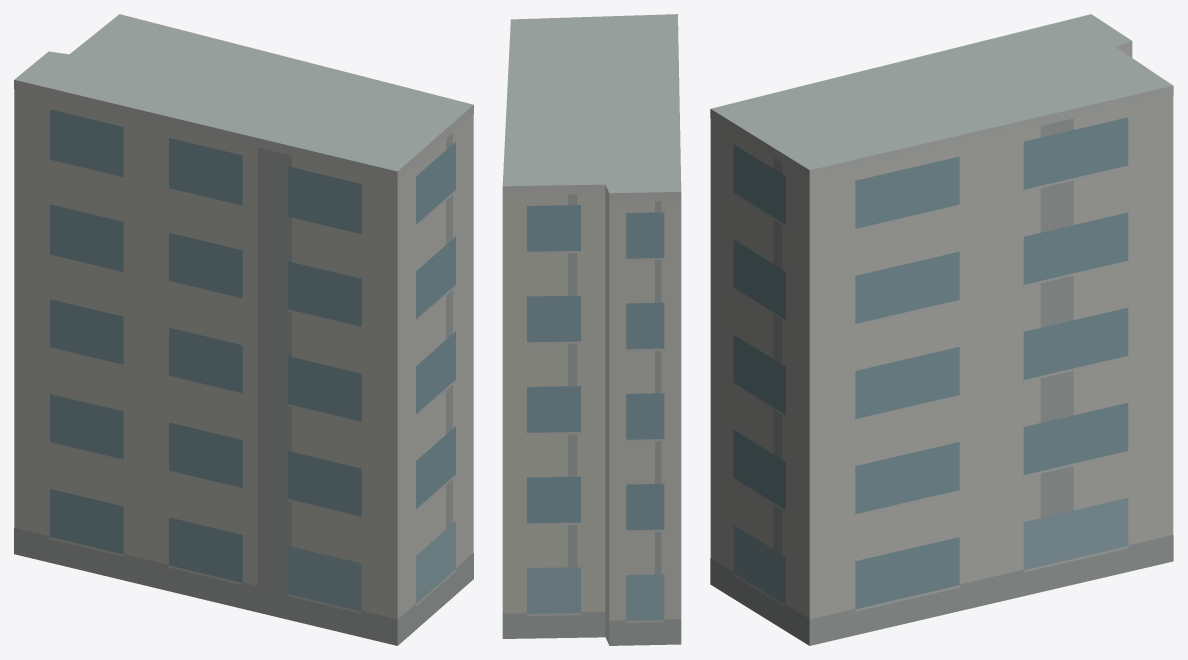
The model's file is survey-upis-32724557.glb.
The picture shows the model from 3 angles, left to right: view 1: azimuth 30°, elevation 25°; view 2: azimuth 150°, elevation 25°; view 3: azimuth 270°, elevation 25°; orthographic projection. The views are drawn at different scales.
Parts seen in each view (by area): view 1: survey-upis-32724557.tmp; view 2: survey-upis-32724557.tmp; view 3: survey-upis-32724557.tmp.
Boxes of the visible parts, x1,y1,x2,y2 form: survey-upis-32724557.tmp: (14, 14, 473, 645); survey-upis-32724557.tmp: (502, 14, 681, 645); survey-upis-32724557.tmp: (710, 14, 1173, 645).
Bounding box in the file's own units: 8.53 × 12.1 × 10.68.
